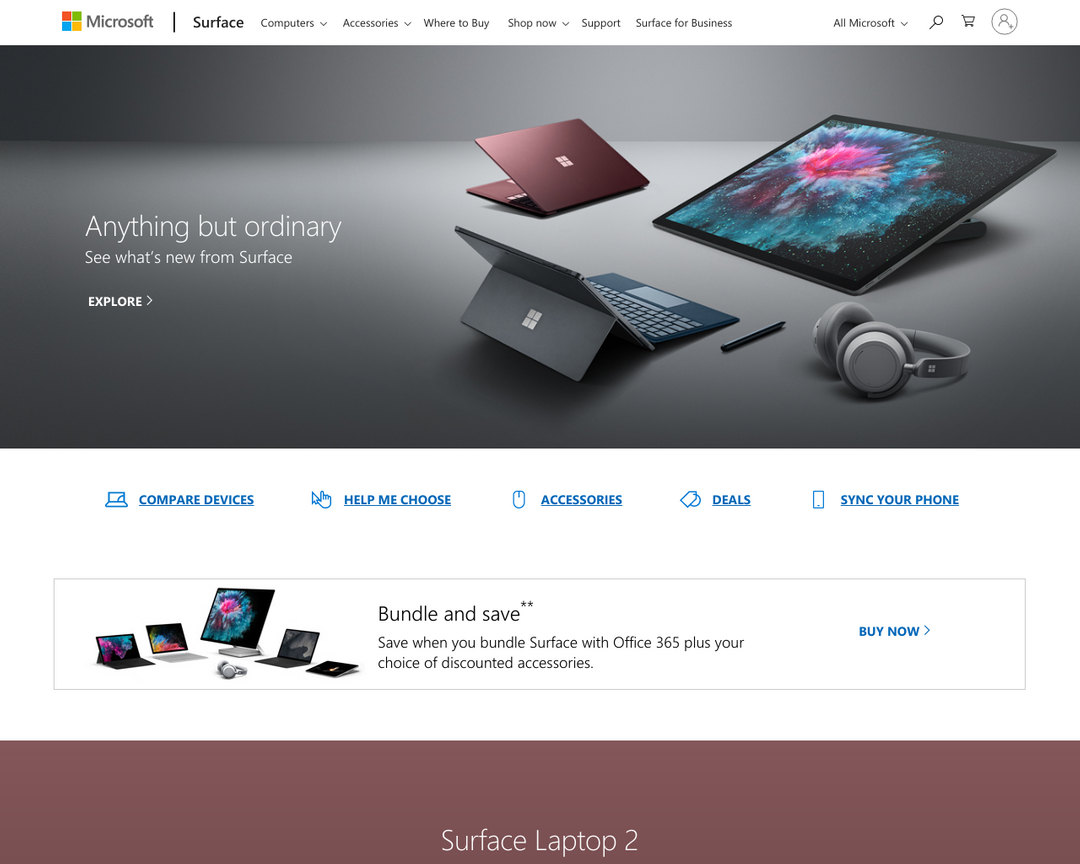Microsoft: (60, 6, 157, 38)
